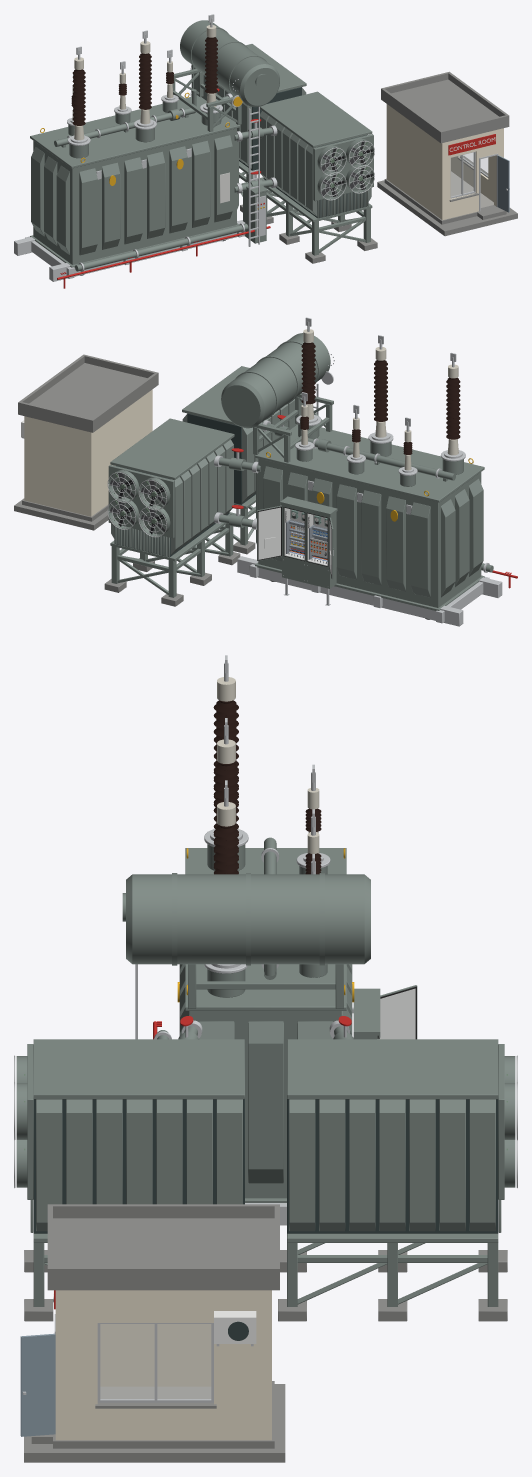
Rendered from transformer2.glb.
3 renders of one model, top to bottom at view 1: azimuth 30°, elevation 25°; view 2: azimuth 150°, elevation 25°; view 3: azimuth 270°, elevation 25°, orthographic. The views are drawn at different scales.
Parts seen in each view (by area): view 1: Tank_Tank_Paint, ControlRoom_Wall_Cream, ControlRoom_Concrete, Bank_Front_Tank_Paint, Bank_Front_Panel_Paint, Conservator_Tank_Paint, Bushings_Porcelain_Brown, Stilts_Front_Tank_Paint, Base_Galvanized, ControlRoom_Foundation, Conservator_Frame_Tank_Paint, Base_Oil_Pipe_Tank_Paint (+23 smaller); view 2: Tank_Tank_Paint, ControlRoom_Wall_Cream, ControlRoom_Concrete, Bank_Rear_Tank_Paint, Bank_Rear_Panel_Paint, Conservator_Tank_Paint, Base_Galvanized, Stilts_Rear_Tank_Paint, Bushings_Porcelain_Brown, MarshallingBox_Tank_Paint, MarshallingBox_Interior_White, Conservator_Frame_Tank_Paint (+18 smaller); view 3: ControlRoom_Wall_Cream, Bank_Rear_Panel_Paint, ControlRoom_Concrete, Conservator_Tank_Paint, Bank_Front_Panel_Paint, Tank_Tank_Paint, Bank_Rear_Tank_Paint, Bank_Front_Tank_Paint, ControlRoom_Glass, Stilts_Rear_Tank_Paint, Bank_Rear_Grille_Dark, ControlRoom_Foundation (+15 smaller).
Boxes of the visible parts, x1=… form: Tank_Tank_Paint: x1=30, y1=95, x2=240, y2=267; ControlRoom_Wall_Cream: x1=386, y1=104, x2=503, y2=220; ControlRoom_Concrete: x1=381, y1=71, x2=509, y2=224; Bank_Front_Tank_Paint: x1=260, y1=91, x2=373, y2=222; Bank_Front_Panel_Paint: x1=260, y1=111, x2=371, y2=218; Conservator_Tank_Paint: x1=180, y1=20, x2=279, y2=107; Bushings_Porcelain_Brown: x1=71, y1=37, x2=217, y2=125; Stilts_Front_Tank_Paint: x1=261, y1=179, x2=370, y2=255; Base_Galvanized: x1=14, y1=220, x2=245, y2=281; ControlRoom_Foundation: x1=377, y1=180, x2=517, y2=236; Conservator_Frame_Tank_Paint: x1=172, y1=69, x2=241, y2=131; Base_Oil_Pipe_Tank_Paint: x1=75, y1=223, x2=248, y2=271; Tank_Tank_Paint: x1=255, y1=424, x2=484, y2=610; ControlRoom_Wall_Cream: x1=24, y1=389, x2=152, y2=516; ControlRoom_Concrete: x1=18, y1=354, x2=158, y2=521; Bank_Rear_Tank_Paint: x1=108, y1=418, x2=234, y2=561; Bank_Rear_Panel_Paint: x1=111, y1=439, x2=233, y2=557; Conservator_Tank_Paint: x1=221, y1=333, x2=330, y2=428; Base_Galvanized: x1=237, y1=556, x2=502, y2=626; Stilts_Rear_Tank_Paint: x1=111, y1=514, x2=233, y2=597; Bushings_Porcelain_Brown: x1=300, y1=342, x2=460, y2=454; MarshallingBox_Tank_Paint: x1=257, y1=496, x2=337, y2=588; MarshallingBox_Interior_White: x1=258, y1=507, x2=331, y2=575; Conservator_Frame_Tank_Paint: x1=253, y1=393, x2=333, y2=462; ControlRoom_Wall_Cream: x1=55, y1=1290, x2=271, y2=1440; Bank_Rear_Panel_Paint: x1=289, y1=1099, x2=501, y2=1232; ControlRoom_Concrete: x1=31, y1=1204, x2=279, y2=1448; Conservator_Tank_Paint: x1=122, y1=873, x2=370, y2=965; Bank_Front_Panel_Paint: x1=30, y1=1099, x2=242, y2=1232; Tank_Tank_Paint: x1=179, y1=848, x2=352, y2=1202; Bank_Rear_Tank_Paint: x1=287, y1=1039, x2=504, y2=1242; Bank_Front_Tank_Paint: x1=27, y1=1039, x2=244, y2=1242; ControlRoom_Glass: x1=100, y1=1324, x2=210, y2=1399; Stilts_Rear_Tank_Paint: x1=287, y1=1233, x2=498, y2=1306; Bank_Rear_Grille_Dark: x1=287, y1=1099, x2=498, y2=1233; ControlRoom_Foundation: x1=24, y1=1384, x2=285, y2=1462.
Size of the model in its own units: 18.12 by 9.19 by 9.54.
